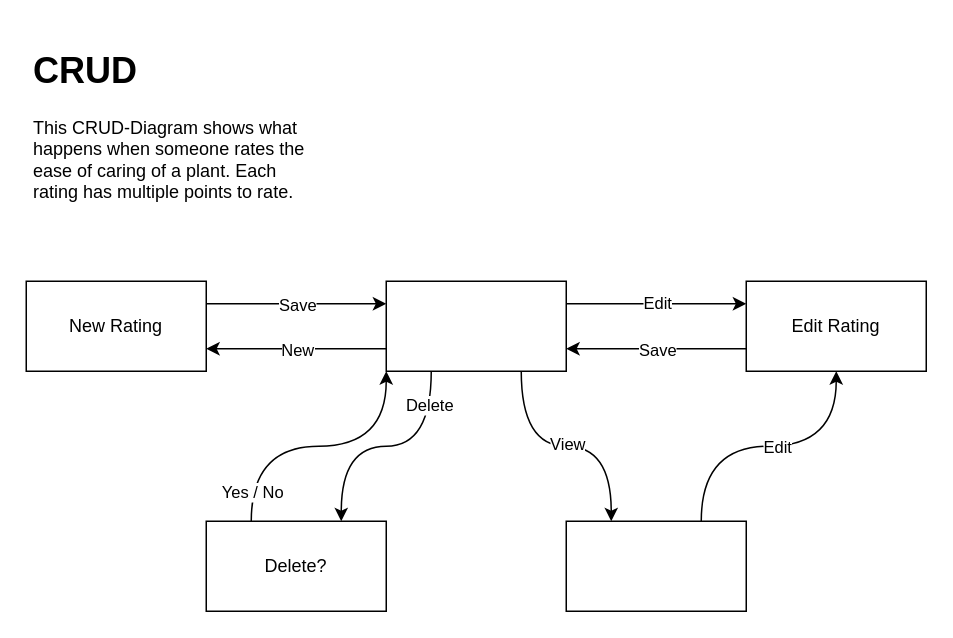
Image size: 953x638. Some labels were removed from this diagram. The box of each missing label's shape, as (x1, y1, x2, y2) in pixels:
List Rating / Rating average: (385, 280, 566, 371)
View Rating: (565, 520, 746, 611)
